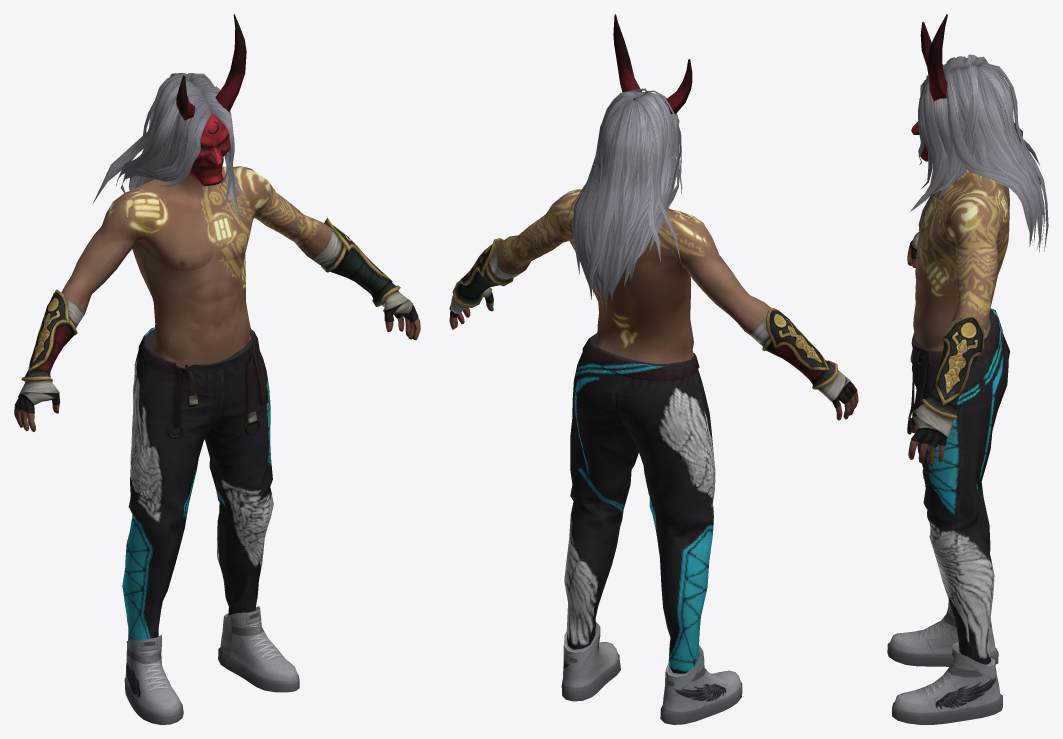
File: markush.glb
3 views of the same model, side by side, from view 1: azimuth 30°, elevation 25°; view 2: azimuth 150°, elevation 25°; view 3: azimuth 270°, elevation 25° (orthographic). The views are drawn at different scales.
Visible parts, largest first — view 1: markush; view 2: markush; view 3: markush.
Part boxes in pixels (<box>): markush: <box>14,14,420,724</box>; markush: <box>449,14,858,724</box>; markush: <box>887,14,1048,724</box>.
Bounding box in the file's own units: 0.6255 × 1.01 × 0.214.
6 materials, 6 textured.
